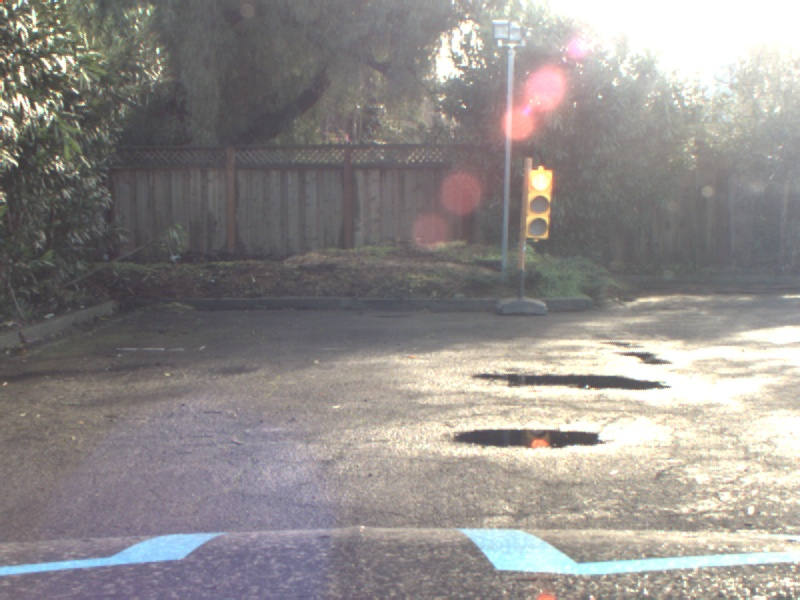Red: (522, 169, 552, 238)
